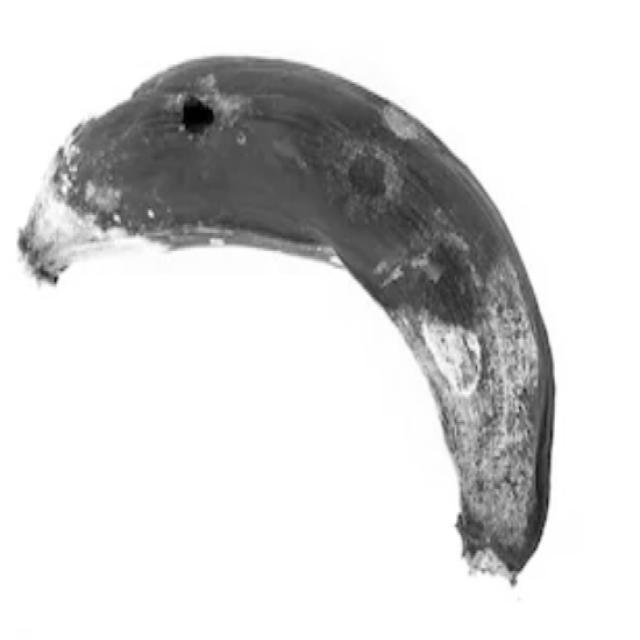Rotten: (0, 28, 559, 596)
